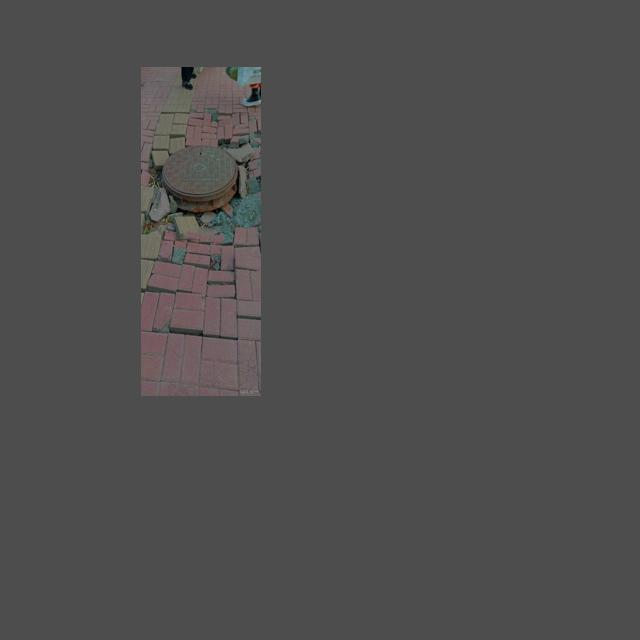circle: (143, 116, 259, 274)
